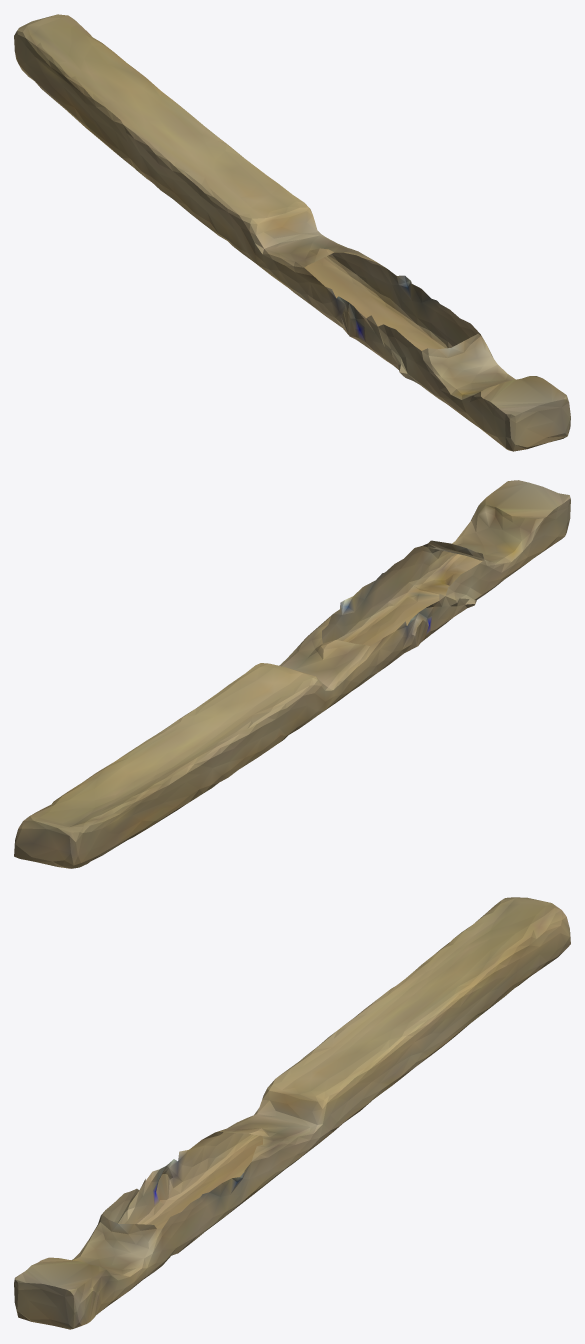
Rendered from scan.obj.
The picture shows the model from 3 angles, top to bottom: view 1: azimuth 30°, elevation 25°; view 2: azimuth 150°, elevation 25°; view 3: azimuth 330°, elevation 25°; orthographic projection.
Visible parts, largest first — view 1: scan.ply; view 2: scan.ply; view 3: scan.ply.
Part boxes in pixels (bbox=[...]): scan.ply: bbox=[14, 14, 570, 451]; scan.ply: bbox=[14, 480, 570, 868]; scan.ply: bbox=[14, 897, 570, 1329].
Bounding box in the file's own units: 0.0147 × 0.0131 × 0.1782.
